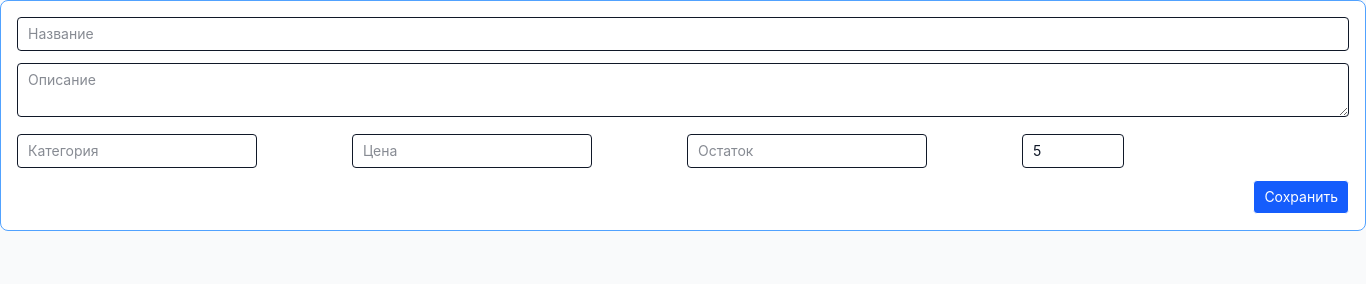
Test case: ProductForm › показывает ошибку правила предметной области: дорогой товар без остатка
Step 1. Type "Премиум товар" into the field with placeholder "Название" → (683, 34), box [17, 17, 1349, 51]
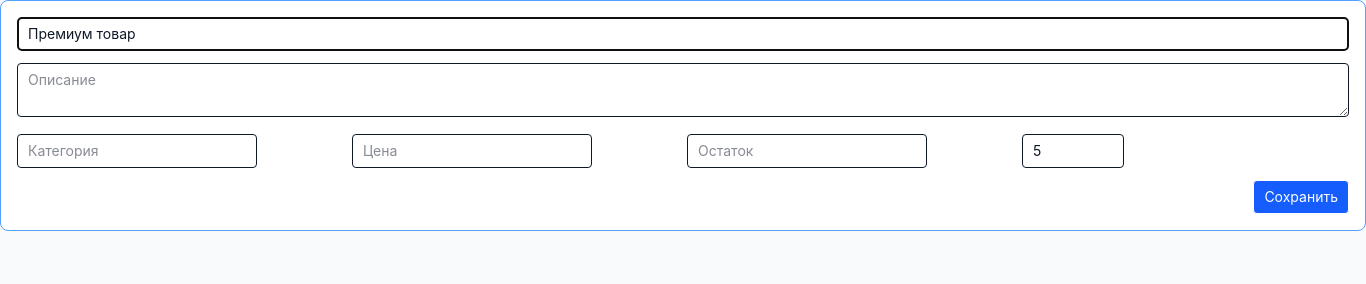
Step 2. Type "Очень подробное описание товара" into the text box with placeholder "Описание" → (683, 90), box [17, 63, 1349, 117]
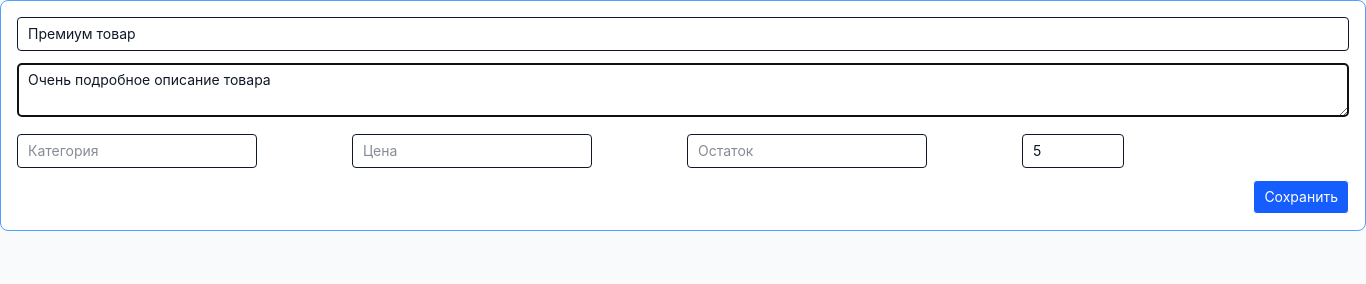
Step 3. Type "luxury" into the field with placeholder "Категория" → (137, 151), box [17, 134, 257, 168]
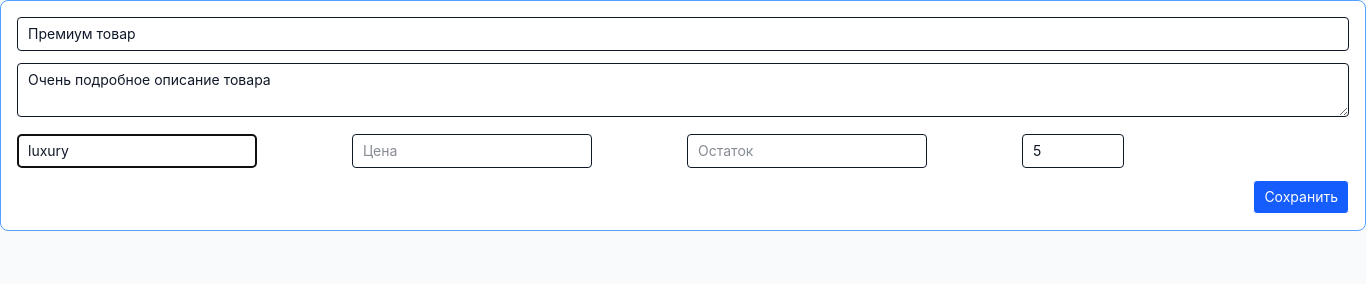
Step 4. Type "1500" into the number field with placeholder "Цена" → (472, 151), box [352, 134, 592, 168]
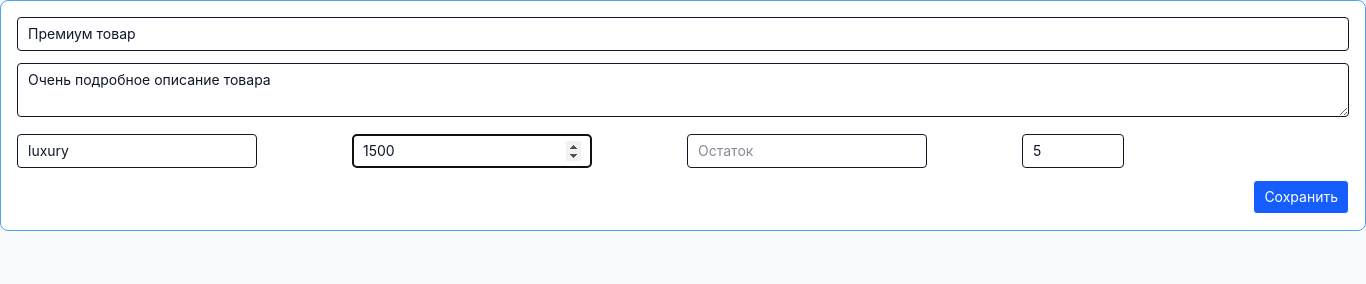
Step 5. Type "0" into the number field with placeholder "Остаток" → (807, 151), box [687, 134, 927, 168]
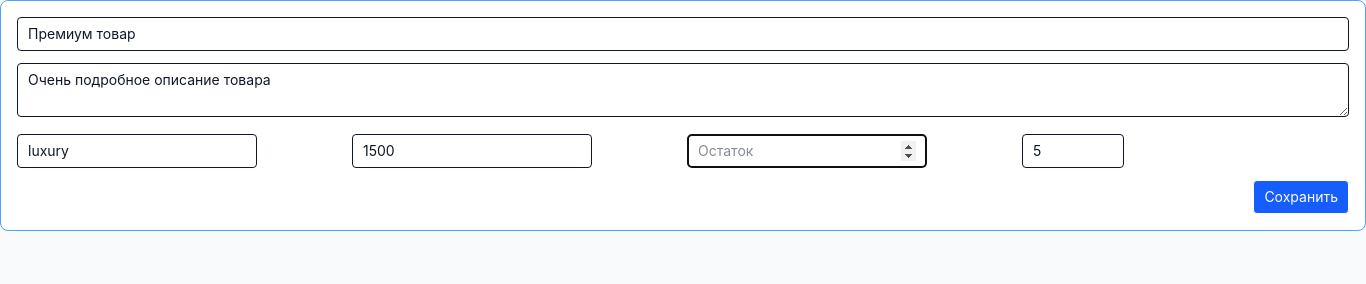
Step 6. Click the button "Сохранить" → (1301, 197), box [1253, 180, 1349, 214]
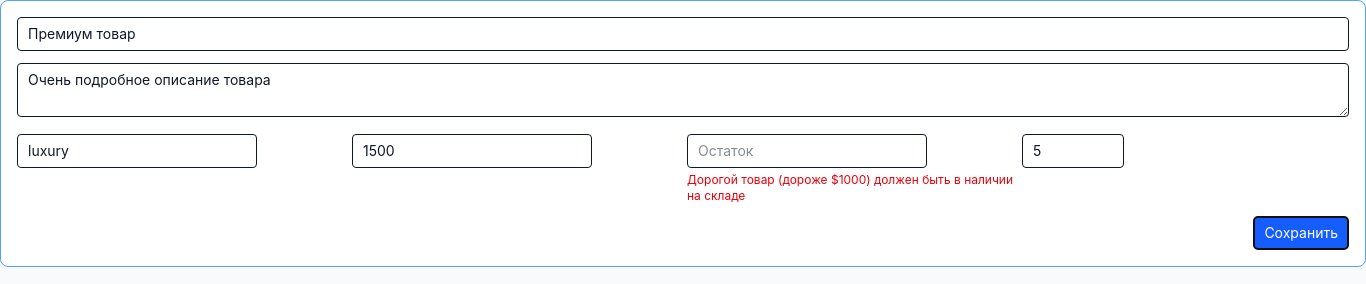
Expected: the text "Дорогой товар (дороже $1000) должен быть в наличии на складе" is shown, [687, 172, 1014, 204]
